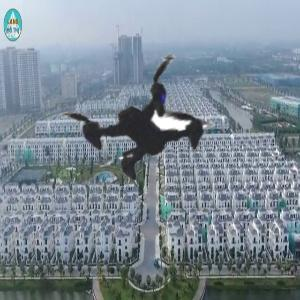drone: (10, 6, 278, 274)
